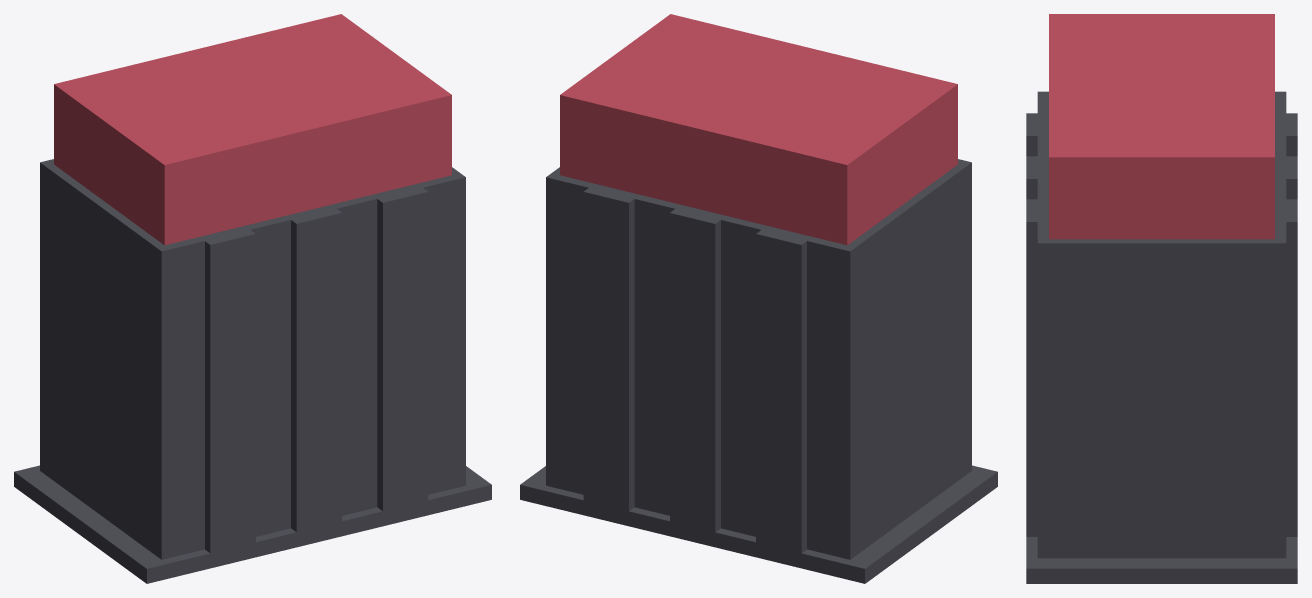
File: samurai_fem_saia.glb
3 renders of one model, left to right at view 1: azimuth 30°, elevation 25°; view 2: azimuth 150°, elevation 25°; view 3: azimuth 270°, elevation 25°, orthographic. The views are drawn at different scales.
Visible parts, largest first — view 1: samurai_fem_saia; view 2: samurai_fem_saia; view 3: samurai_fem_saia.
Part boxes in pixels (x1=…): samurai_fem_saia: x1=14, y1=14, x2=491, y2=583; samurai_fem_saia: x1=520, y1=14, x2=997, y2=583; samurai_fem_saia: x1=1026, y1=14, x2=1297, y2=583.
Size of the model in its own units: 0.72 by 0.805 by 0.48.
